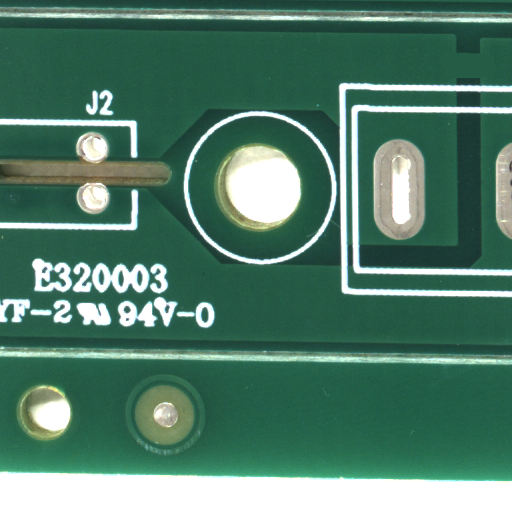Short: (467, 64, 512, 103)
